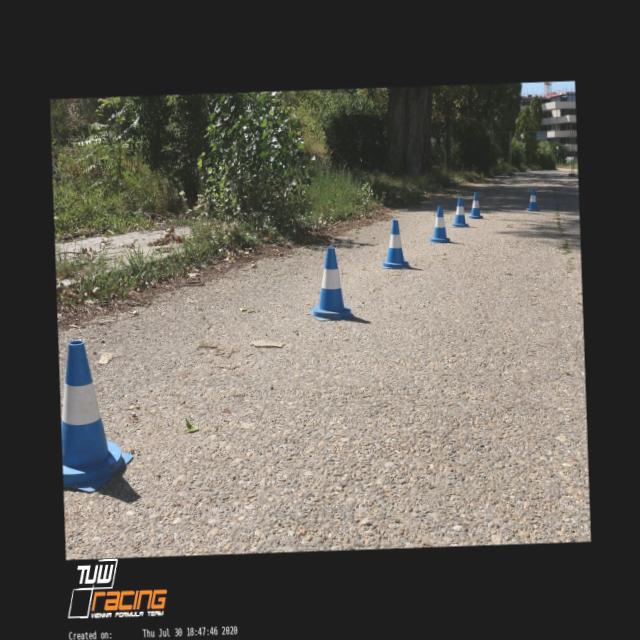blue_cone: (58, 339, 134, 492), (306, 244, 354, 322), (380, 220, 410, 269), (426, 206, 451, 243), (450, 196, 469, 227), (467, 192, 482, 218), (526, 188, 539, 210)
